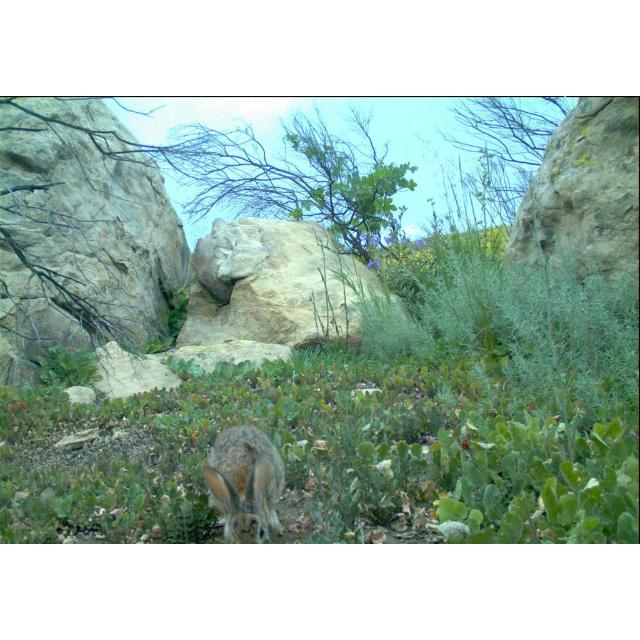animals: (195, 418, 288, 544)
